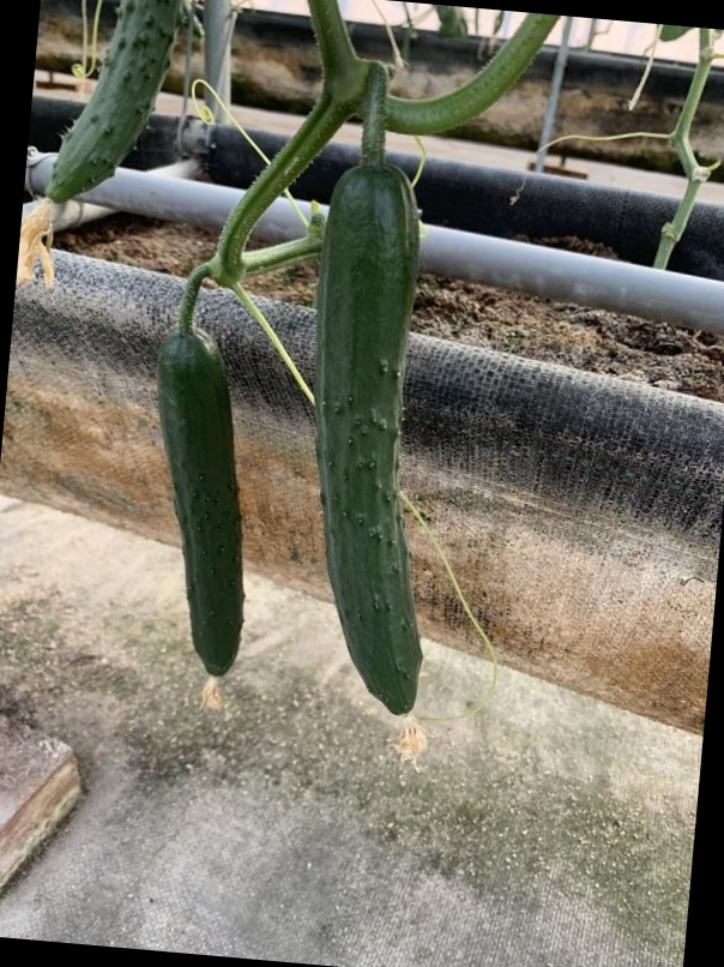mature: (321, 163, 447, 717), (144, 326, 253, 690)
